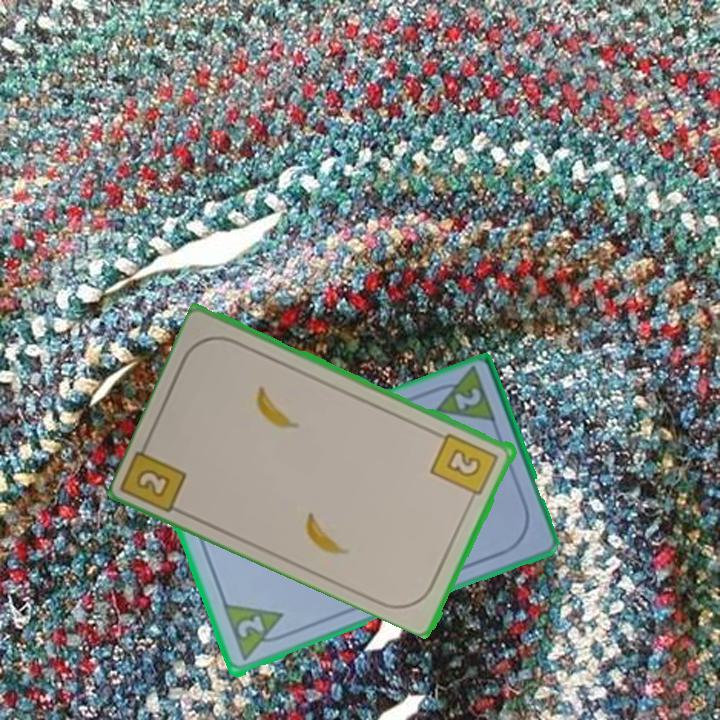2b: (428, 429, 502, 505), (133, 465, 174, 501)
2p: (425, 365, 499, 429), (233, 612, 267, 642)
